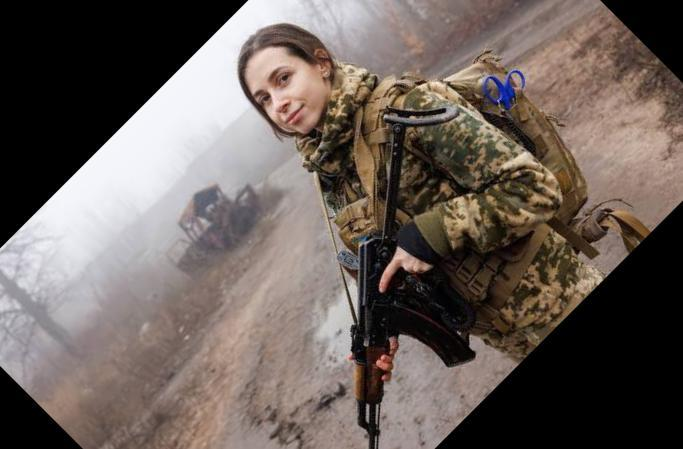larga: (348, 105, 460, 449)
